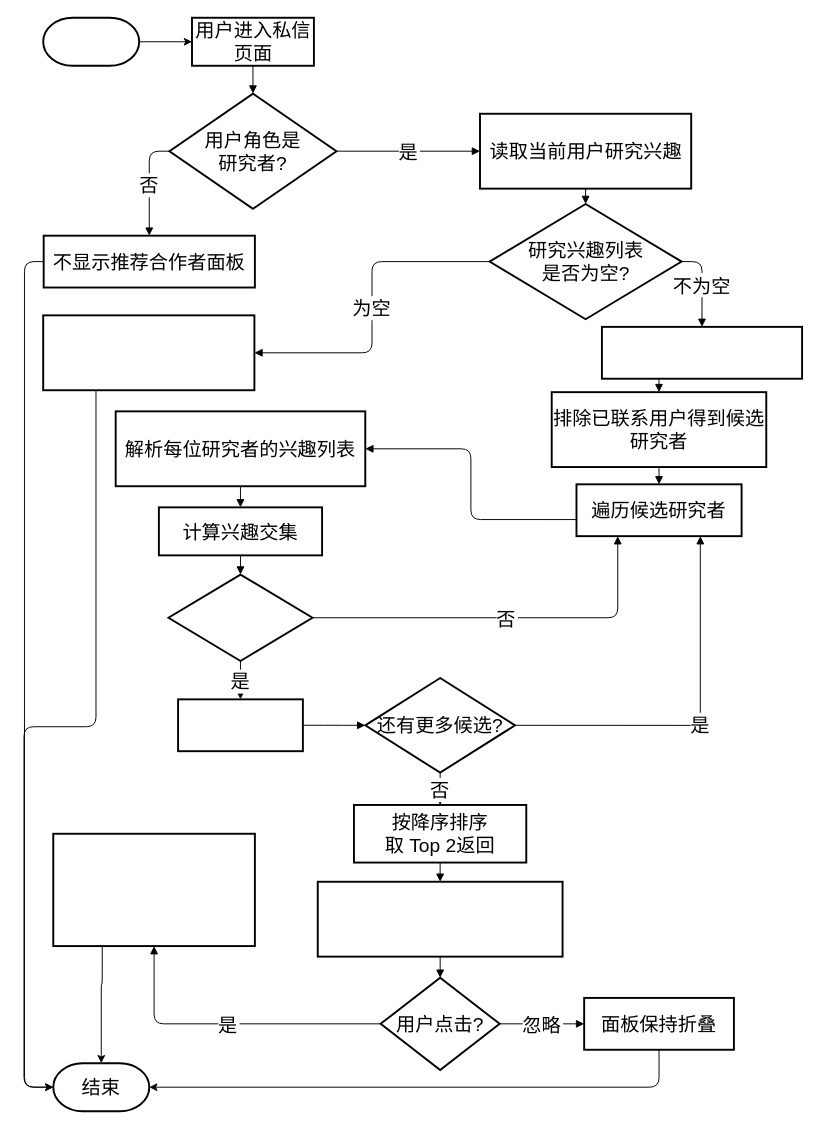
The diagram is 819 pixels wide and 1128 high, and some of its shapes have lost their labels. The box of each missing label's shape, as (x1, y1, x2, y2) in pixels:
交集大小 > 0?: (167, 573, 313, 661)
开始: (42, 16, 140, 66)
推荐合作者面板展示 头像 + 名称 + 共同兴趣标签: (316, 880, 563, 957)
查询所有研究者用户: (600, 325, 803, 379)
自动生成问候语 含共同兴趣列表，发送消息进入正常私信流程: (52, 832, 255, 947)
记录匹配: (177, 698, 303, 752)
返回空列表 前端提示完善兴趣标签: (42, 314, 255, 391)
